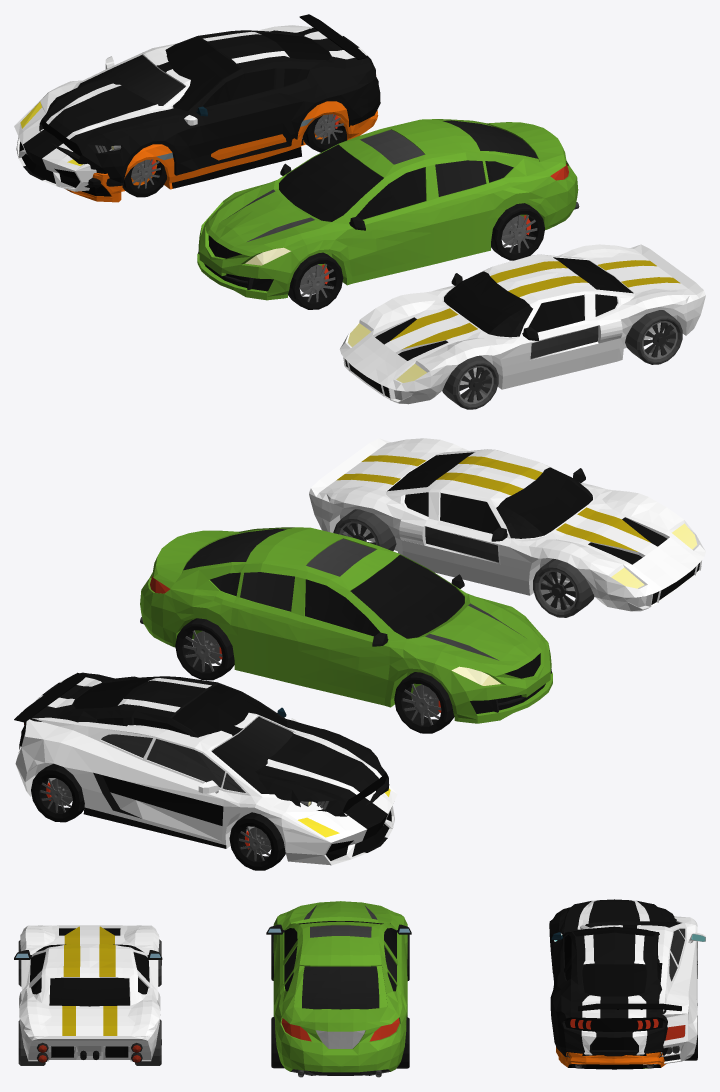
The model's file is Mousse.glb.
3 renders of one model, top to bottom at view 1: azimuth 30°, elevation 25°; view 2: azimuth 150°, elevation 25°; view 3: azimuth 270°, elevation 25°, orthographic. The views are drawn at different scales.
Visible parts, largest first — view 1: Mazda.002_Material.003_0, Ford.001_Material.003_0, mustang_body, lambo_3_Material.001_0, mustang_windows, audi_black; view 2: Mazda.002_Material.003_0, Ford.001_Material.003_0, lambo_3_Material.001_0, mustang_body, mustang_windows; view 3: Mazda.002_Material.003_0, Ford.001_Material.003_0, mustang_body, lambo_3_Material.001_0, mustang_windows, mustang_black, audi_black.
Boxes of the visible parts, <box> form: Mazda.002_Material.003_0: <box>197,119,579,309</box>; Ford.001_Material.003_0: <box>339,244,705,409</box>; mustang_body: <box>39,28,380,188</box>; lambo_3_Material.001_0: <box>14,14,367,197</box>; mustang_windows: <box>166,32,330,110</box>; audi_black: <box>65,101,378,202</box>; Mazda.002_Material.003_0: <box>140,527,552,733</box>; Ford.001_Material.003_0: <box>309,438,705,617</box>; lambo_3_Material.001_0: <box>14,672,397,870</box>; mustang_body: <box>19,672,389,816</box>; mustang_windows: <box>73,678,287,736</box>; Mazda.002_Material.003_0: <box>266,901,411,1077</box>; Ford.001_Material.003_0: <box>14,925,162,1065</box>; mustang_body: <box>549,899,676,1056</box>; lambo_3_Material.001_0: <box>554,916,705,1064</box>; mustang_windows: <box>564,926,661,996</box>; mustang_black: <box>565,1017,663,1057</box>; audi_black: <box>553,945,666,1069</box>.
Size of the model in its own units: 5 by 1.5 by 9.16.
Materials: 2 (2 with a texture image).
